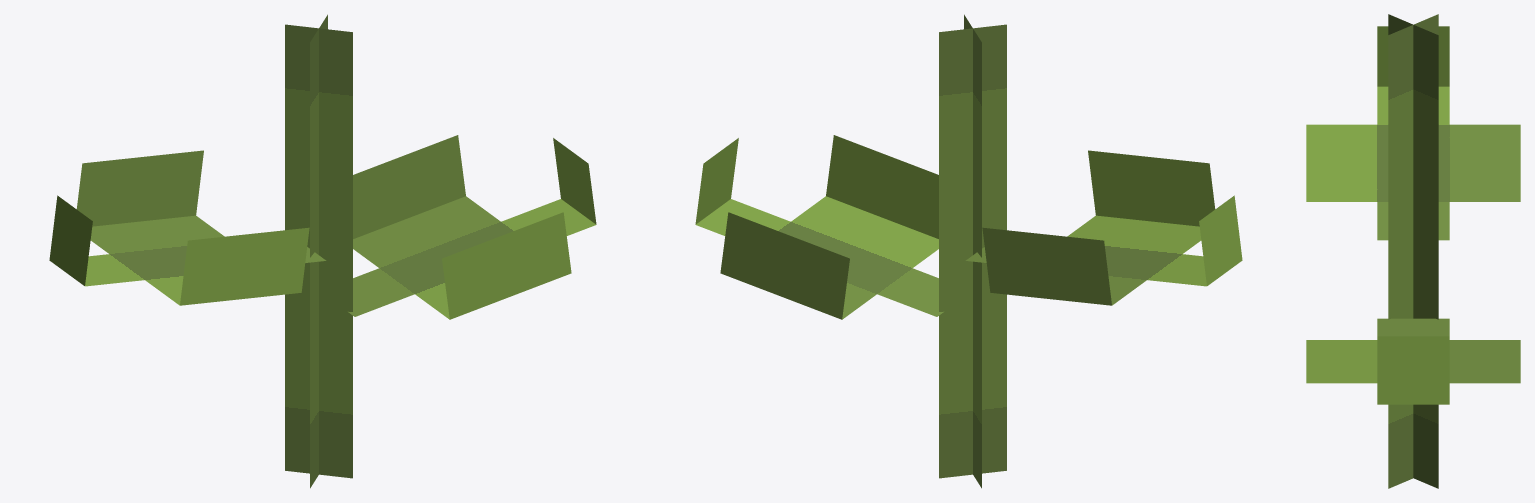
Rendered from cucumber-stage1.gltf.
3 renders of one model, left to right at view 1: azimuth 30°, elevation 25°; view 2: azimuth 150°, elevation 25°; view 3: azimuth 270°, elevation 25°, orthographic.
Parts seen in each view (by area): view 1: cube (×4); view 2: cube (×4); view 3: cube (×4).
Part boxes in pixels (x1,y1,x2,y2): cube (×4): [49, 14, 596, 488]; cube (×4): [695, 14, 1242, 488]; cube (×4): [1306, 14, 1520, 488].
Bounding box in the file's own units: 0.5248 × 0.4375 × 0.1875.
1 material, 1 textured.
